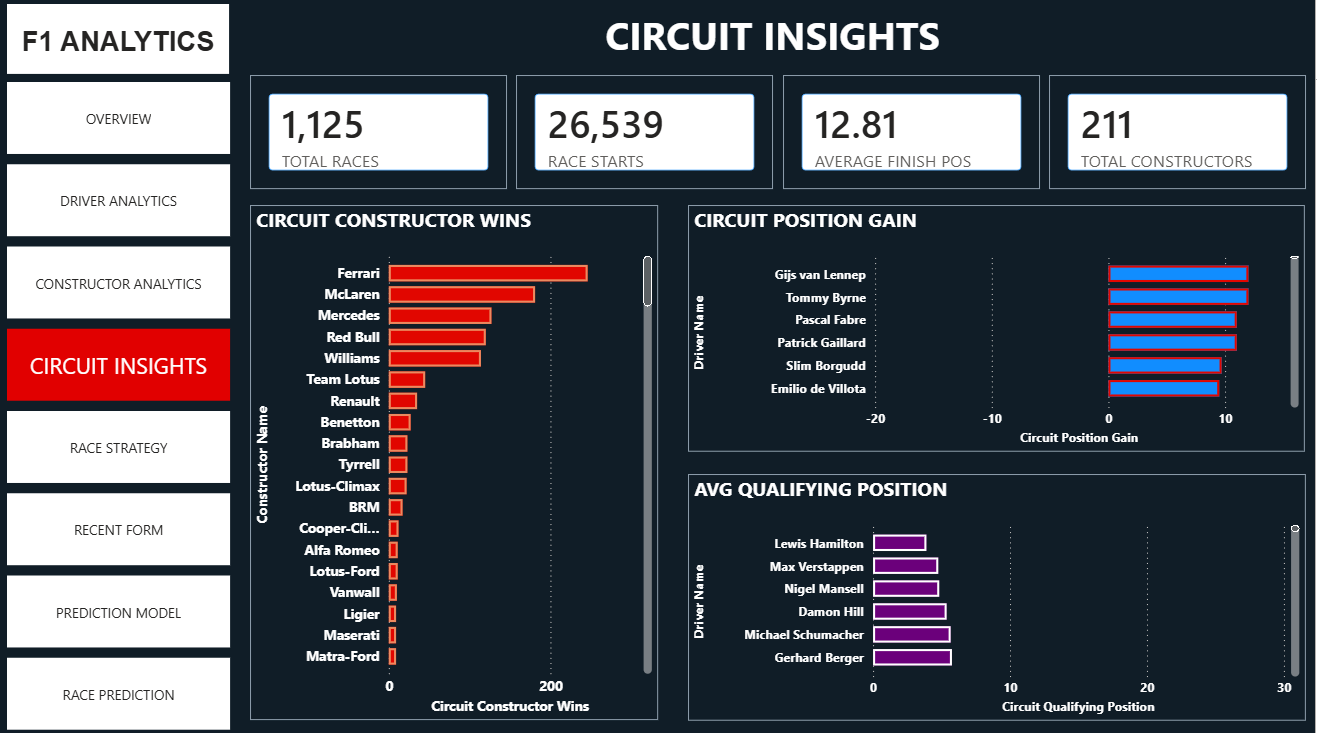

This screenshot's page, from the dashboard's own definition file:
{"tool":"powerbi","page":{"name":"CIRCUIT INSIGHTS","canvas":[1280,720],"ordinal":3},"visuals":[{"type":"clusteredBarChart","title":"CIRCUIT CONSTRUCTOR WINS","fields":{"Category":["constructors_clean.constructorName"],"Y":["results_clean.Circuit Constructor Wins"]},"box":[244.1,203.3,396.8,500.9],"z":1000},{"type":"clusteredBarChart","title":"AVG QUALIFYING POSITION","fields":{"Category":["drivers_clean.driverName"],"Y":["qualifying_clean.Circuit Avg Qualifying Position"]},"box":[670.2,464.9,600.6,240],"z":2000},{"type":"clusteredBarChart","title":"CIRCUIT POSITION GAIN","fields":{"Category":["drivers_clean.driverName"],"Y":["results_clean.Circuit Avg Position Gain"]},"box":[670.2,203.3,600.1,240],"z":3000},{"type":"textbox","box":[8.2,8.2,216.4,68.2],"z":4000},{"type":"pageNavigator","title":"              F1 ANALYTICS","box":[8.2,83.6,217.3,635.5],"z":5000},{"type":"textbox","box":[234.5,8.2,1036.4,68.2],"z":6000},{"type":"cardVisual","fields":{"Data":["results_clean.Average Finish Position"]},"box":[762.4,77.1,250,111.5],"z":8000},{"type":"cardVisual","fields":{"Data":["Dim Season.Tooltip Circuit Race Starts"]},"box":[503.2,77.1,250,111.5],"z":9000},{"type":"cardVisual","fields":{"Data":["races_clean.Tooltip Races"]},"box":[244.1,77.1,250,111.5],"z":10000},{"type":"cardVisual","fields":{"Data":["constructors_clean.Total Constructors"]},"box":[1021.5,77.1,250,111.5],"z":11000}]}

Visuals, with their boxes in screenshot pixels (x1, y1, x2, y2), scaled from the page's 1280x720 canvas onto the 1317x733 screenshot:
"CIRCUIT CONSTRUCTOR WINS" clusteredBarChart: <box>251,207,659,717</box>
"AVG QUALIFYING POSITION" clusteredBarChart: <box>690,473,1308,718</box>
"CIRCUIT POSITION GAIN" clusteredBarChart: <box>690,207,1307,451</box>
textbox: <box>8,8,231,78</box>
"              F1 ANALYTICS" pageNavigator: <box>8,85,232,732</box>
textbox: <box>241,8,1308,78</box>
cardVisual - results_clean.Average Finish Position: <box>784,78,1042,192</box>
cardVisual - Dim Season.Tooltip Circuit Race Starts: <box>518,78,775,192</box>
cardVisual - races_clean.Tooltip Races: <box>251,78,508,192</box>
cardVisual - constructors_clean.Total Constructors: <box>1051,78,1308,192</box>
